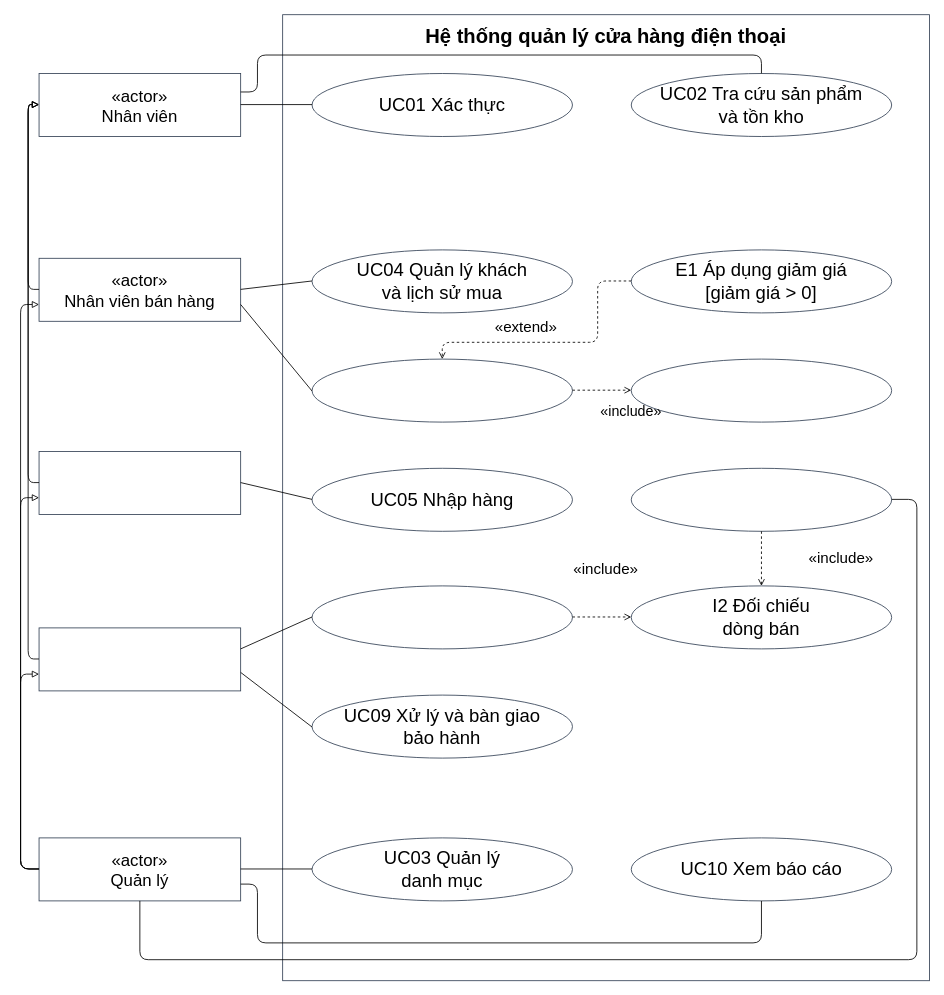
This 944x995 diagram has some shape labels left out. Here are the shapes that lost their labels. From the top down, the box of each, then its label:
(311, 358, 572, 422): UC06 Bán hàng tiền mặt
(630, 358, 892, 422): I1 Kiểm tra hàng sẵn sàng
(38, 451, 241, 514): «actor» Nhân viên kho
(630, 467, 892, 531): UC07 Trả hàng hoàn tiền
(311, 585, 572, 649): UC08 Tiếp nhận bảo hành
(38, 627, 241, 691): «actor» Nhân viên kỹ thuật
